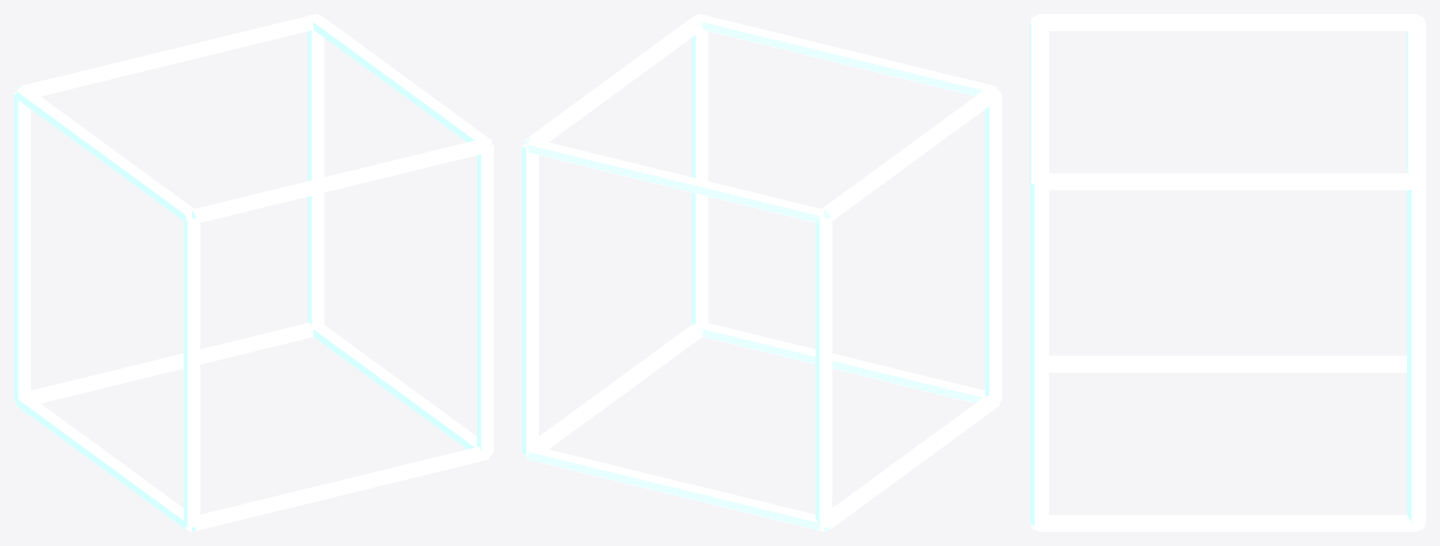
Rendered from block_hollow.glb.
3 renders of one model, left to right at view 1: azimuth 30°, elevation 25°; view 2: azimuth 150°, elevation 25°; view 3: azimuth 270°, elevation 25°, orthographic. The views are drawn at different scales.
Parts seen in each view (by area): view 1: HollowBlock; view 2: HollowBlock; view 3: HollowBlock.
Part boxes in pixels (x1=…): HollowBlock: x1=14, y1=14, x2=493, y2=531; HollowBlock: x1=522, y1=14, x2=1001, y2=531; HollowBlock: x1=1030, y1=14, x2=1425, y2=531.
Size of the model in its own units: 1.04 by 1.05 by 1.05.
